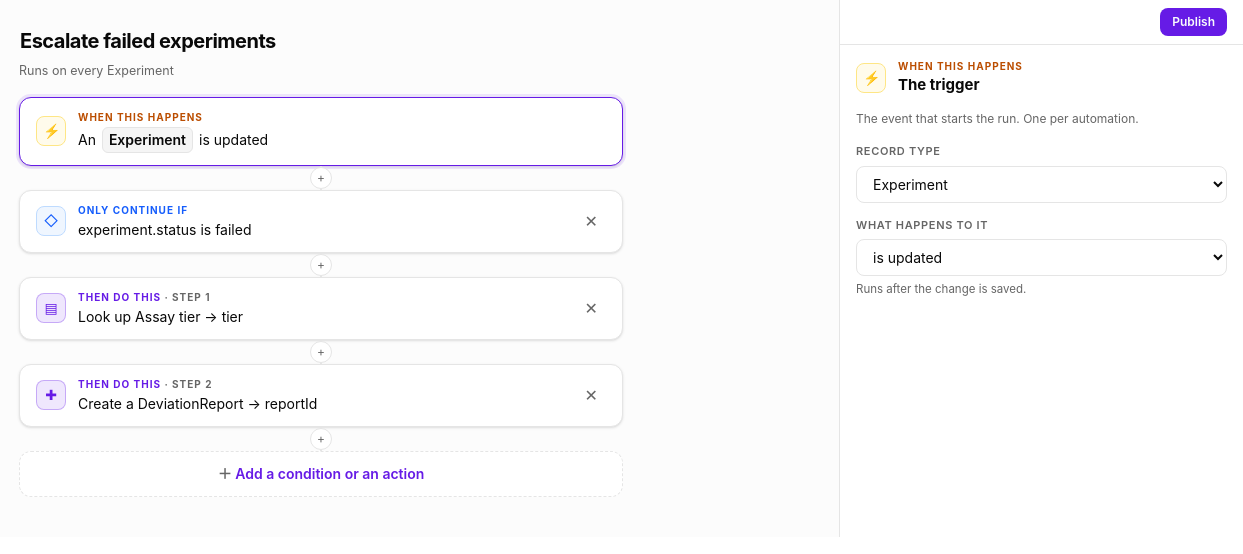
Test case: AutomationBuilder › re-words a card as soon as its setting changes
This screenshot has width=1243, height=554.
Click the text "Look up Assay tier → tier".
click(161, 317)  # box [78,307,243,327]
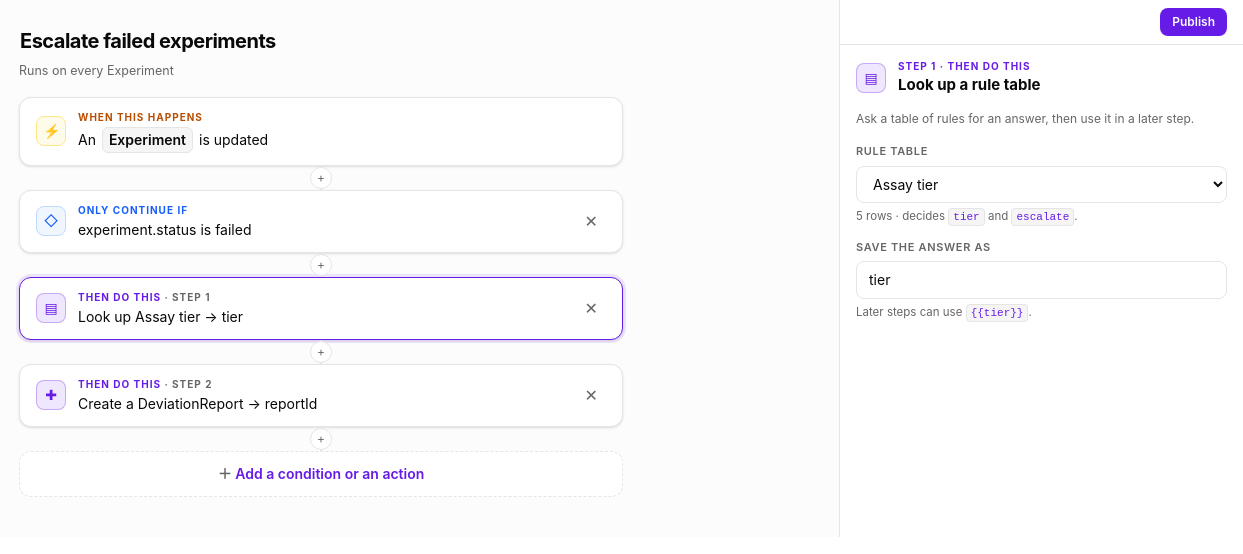
Check: the dropdown showing "Assay tier" is shown
Select "Hazard band" in the dropdown showing "Assay tier" at (1042, 184), box [856,166,1227,202]
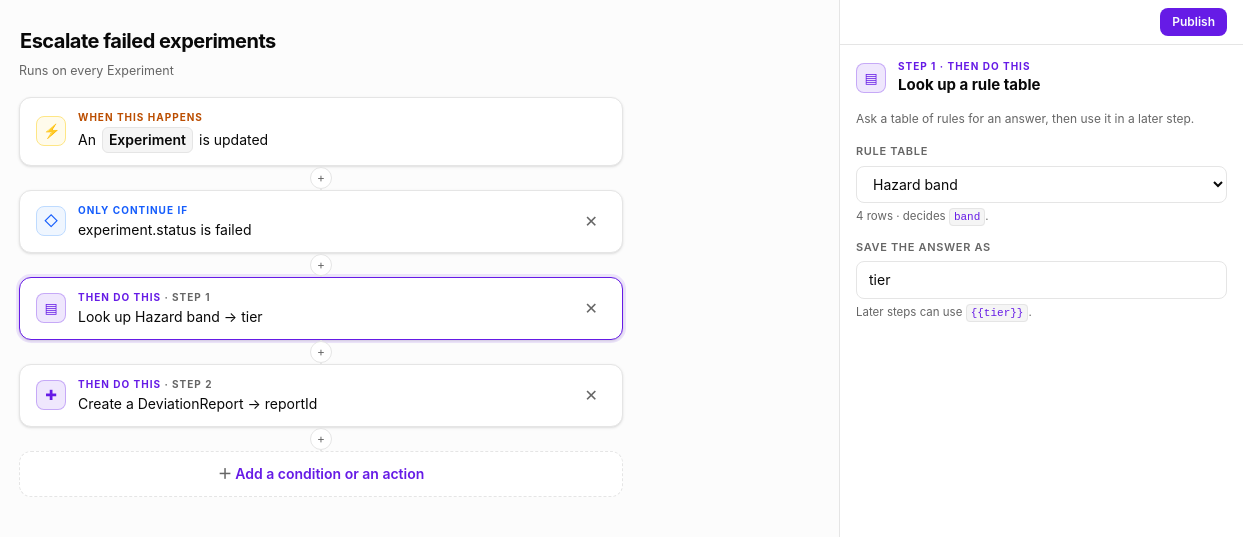
Check: the text "Look up Hazard band → tier" is shown, box [78,307,263,327]
